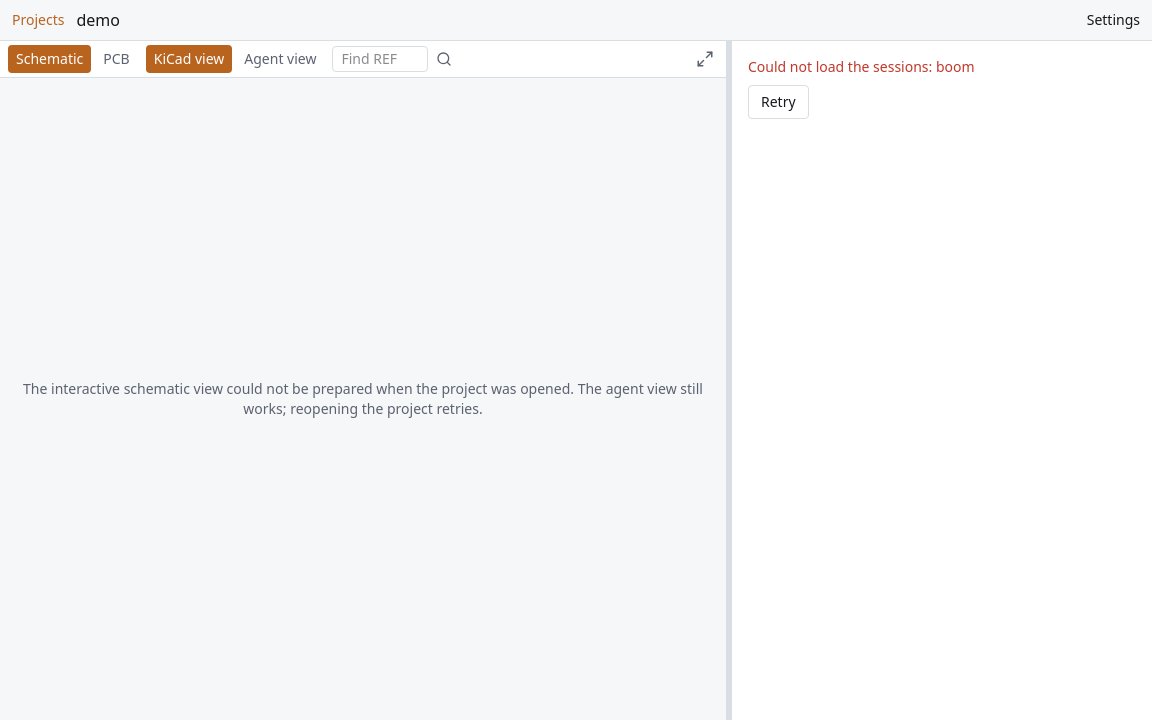
ProjectPage › a failed conversation list shows the error with Retry
Expected: the text "Could not load the sessions: boom" is shown, x1=748 y1=57 x2=975 y2=77
Click the button "Retry". click: click(778, 102)
box: x1=748 y1=85 x2=809 y2=119
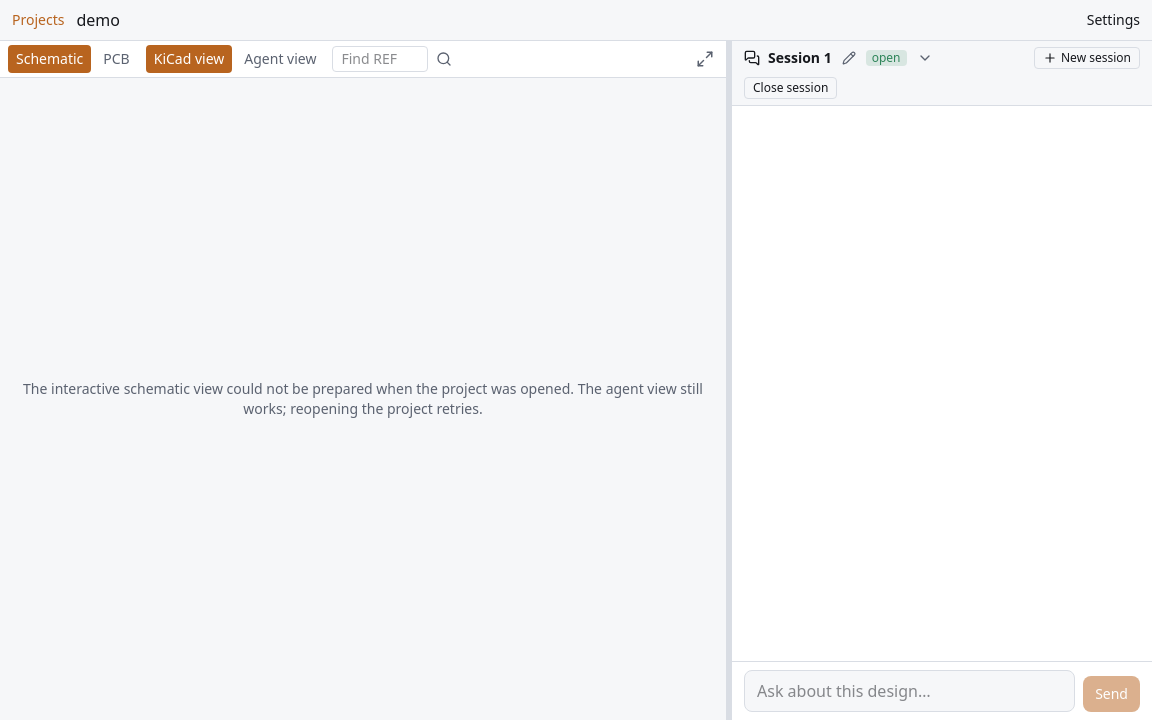
Expected: the element named "Chat" is shown, x1=732 y1=41 x2=1151 y2=719
